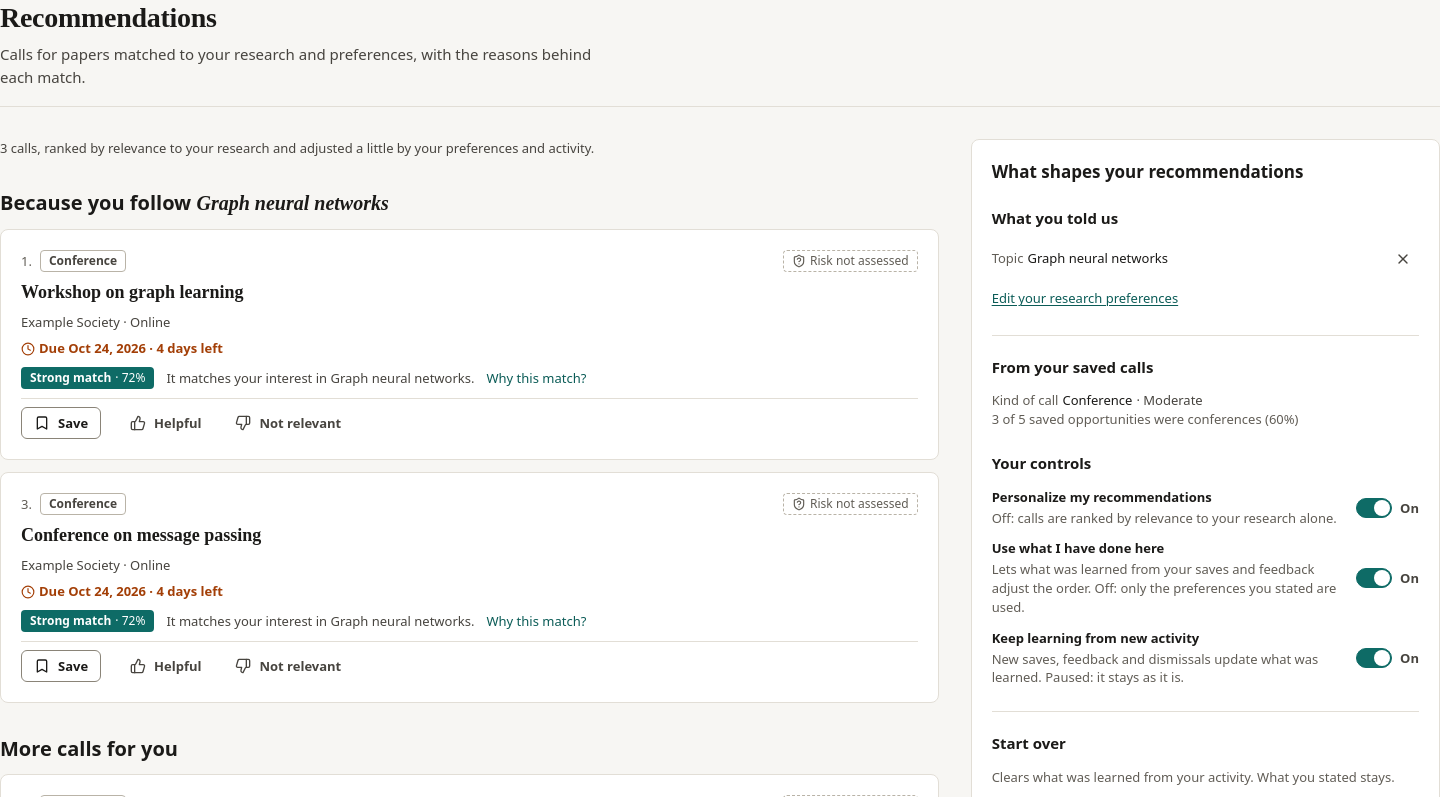
Scenario: recommendations page › removes a stated preference and ranks again
Expected: the text "Graph neural networks" is shown, x1=1027 y1=249 x2=1168 y2=267
What coordinates should you click on to do the following:
click the button named "Remove Graph neural networks"
I would click on:
 (1403, 258)
Its box is x1=1387 y1=242 x2=1419 y2=274.
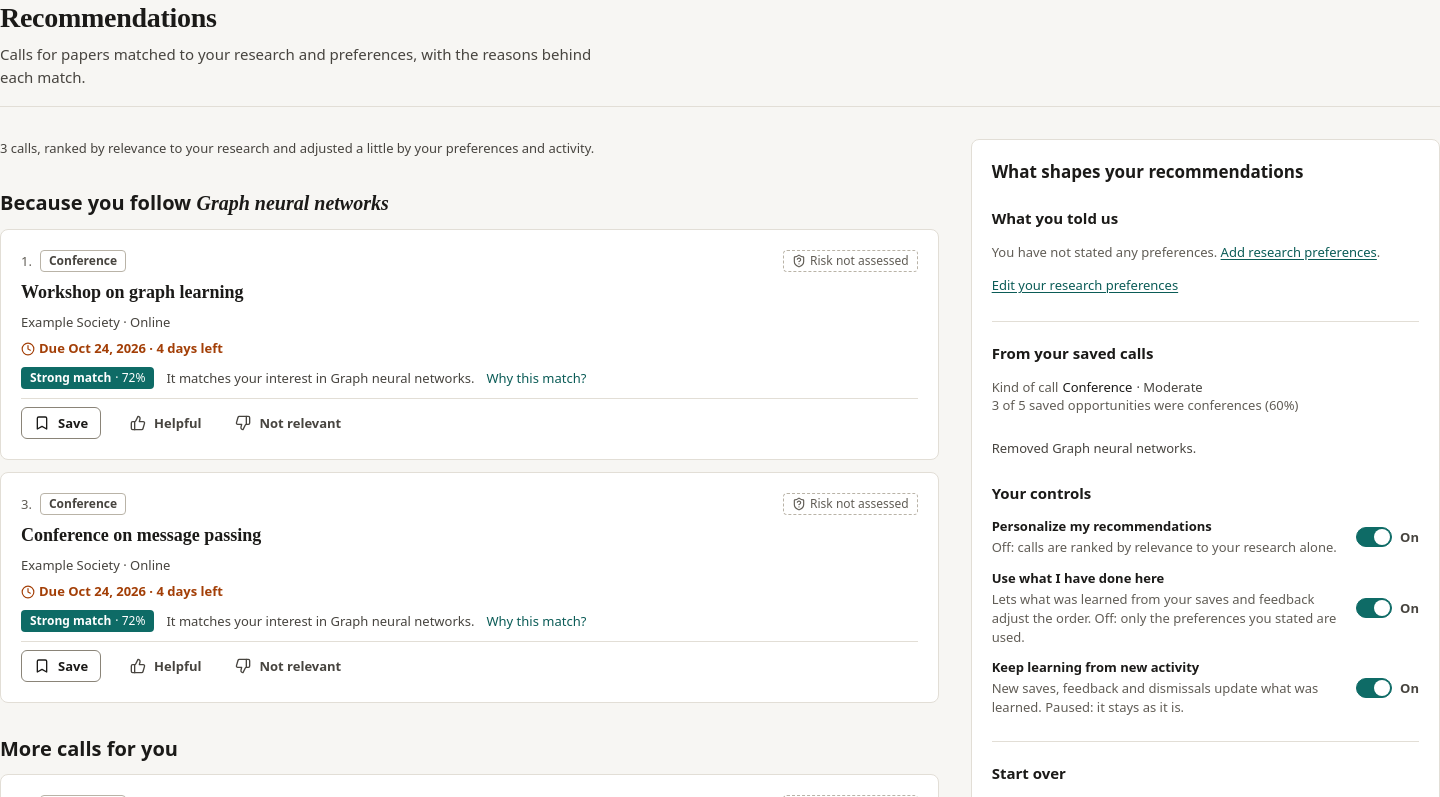
Result: the text "Removed Graph neural networks." is shown at x1=992 y1=439 x2=1196 y2=457
